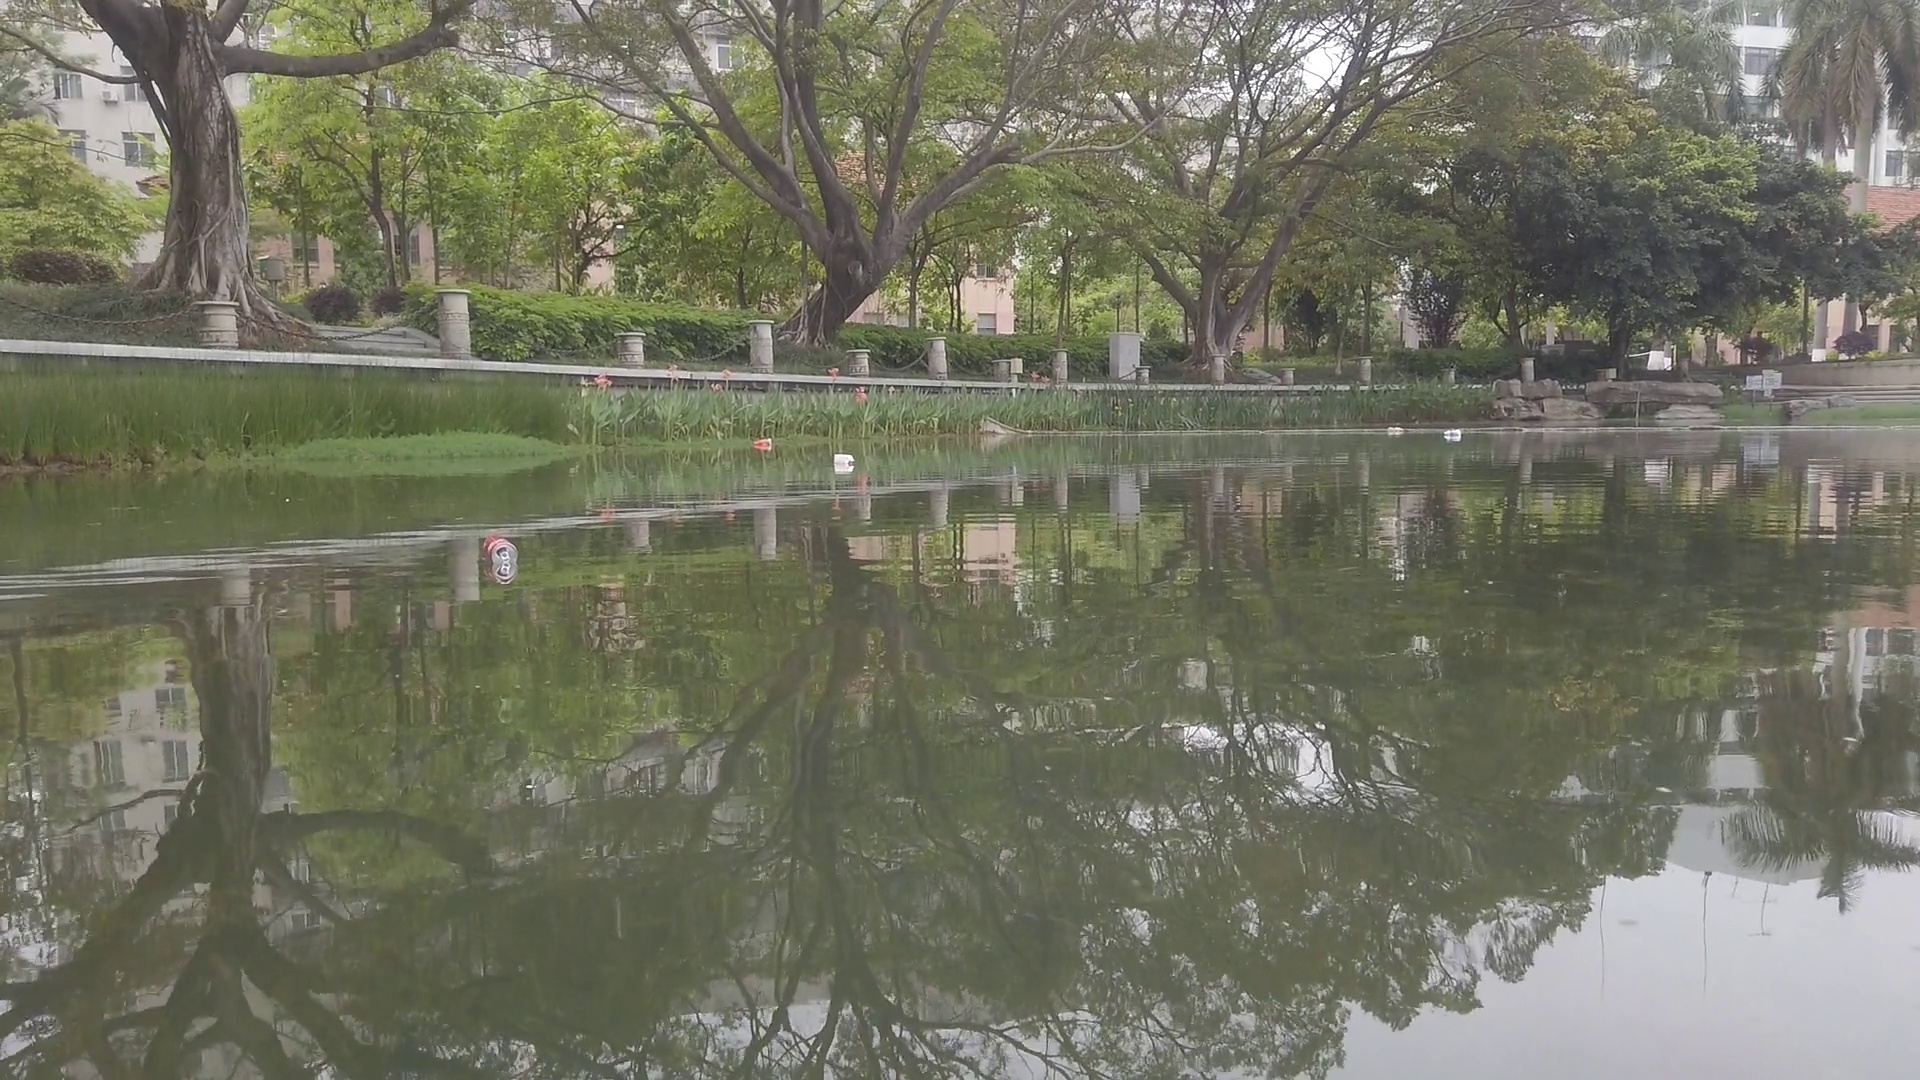bottle: (481, 535, 517, 566), (1444, 429, 1462, 440), (753, 438, 771, 448), (1386, 429, 1404, 436)
carton: (835, 454, 853, 468)
